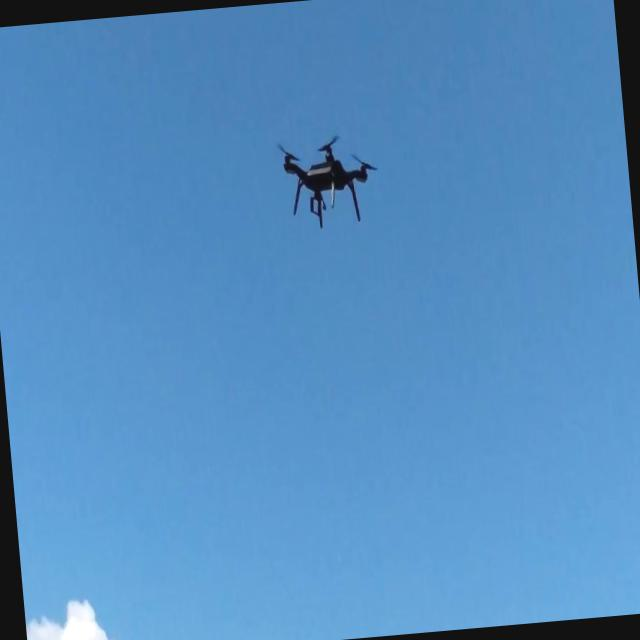drone: (277, 128, 382, 234)
